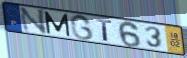3: (144, 26, 163, 49)
6: (117, 20, 143, 49)
G: (69, 14, 95, 41)
M: (43, 10, 72, 38)
N: (17, 7, 48, 36)
T: (95, 18, 114, 43)
